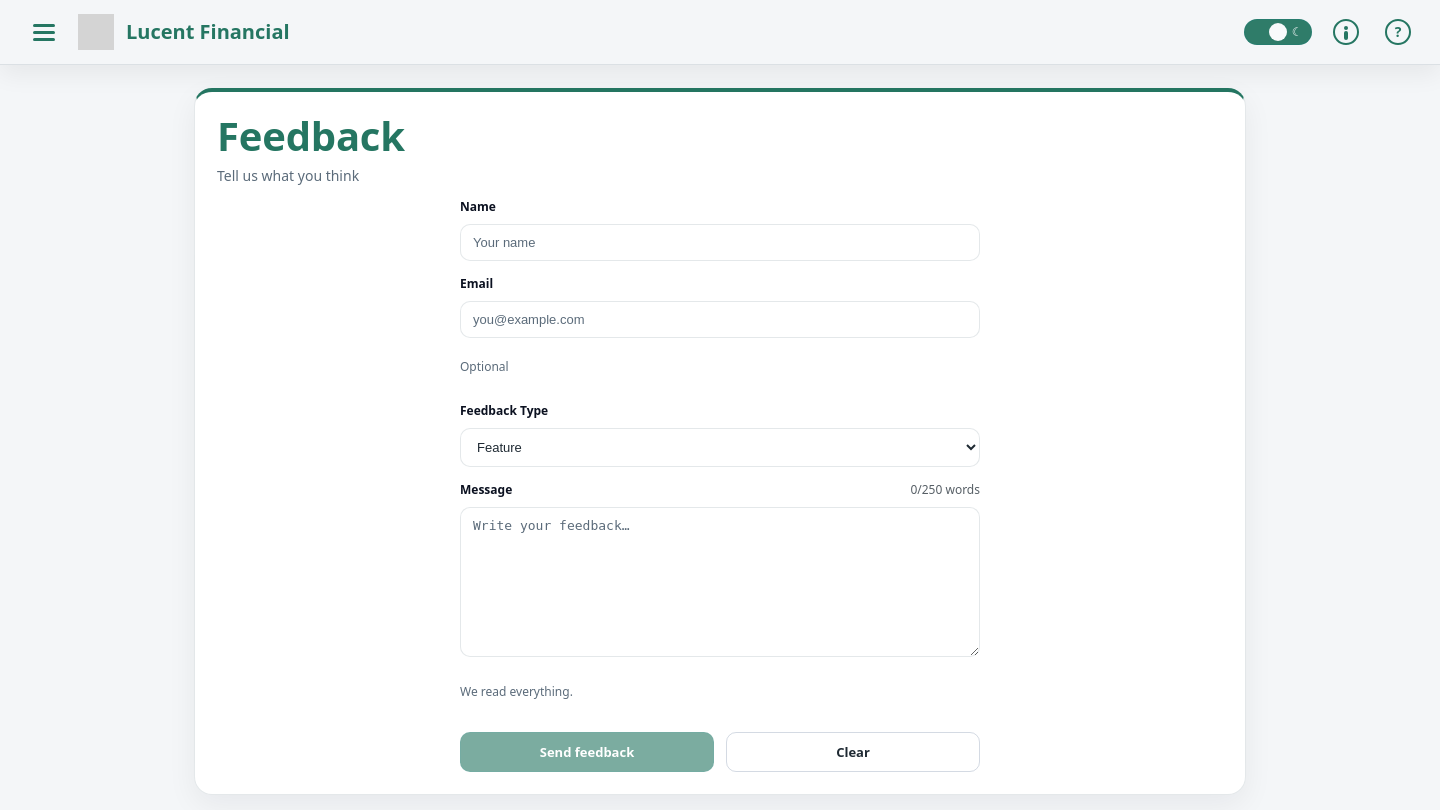
Test: FeedbackPage › clear button resets message + status
Type "This is enough words" into the text box labelled "Message" at (720, 582), box [460,507,980,657]
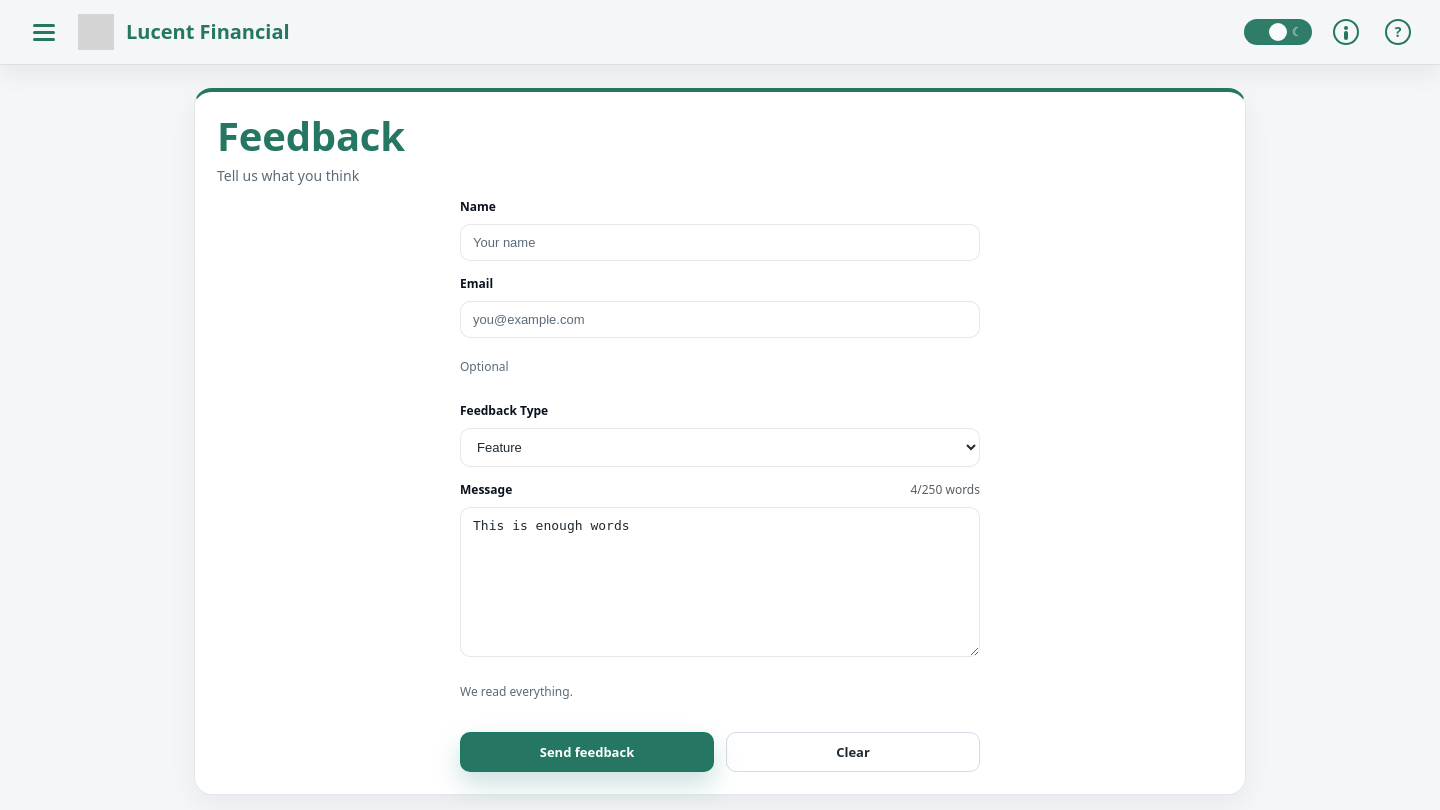
Check: the button "Send feedback" is enabled
Click the button "Send feedback" at (587, 752), box [460,732,714,772]
(page scrolled)
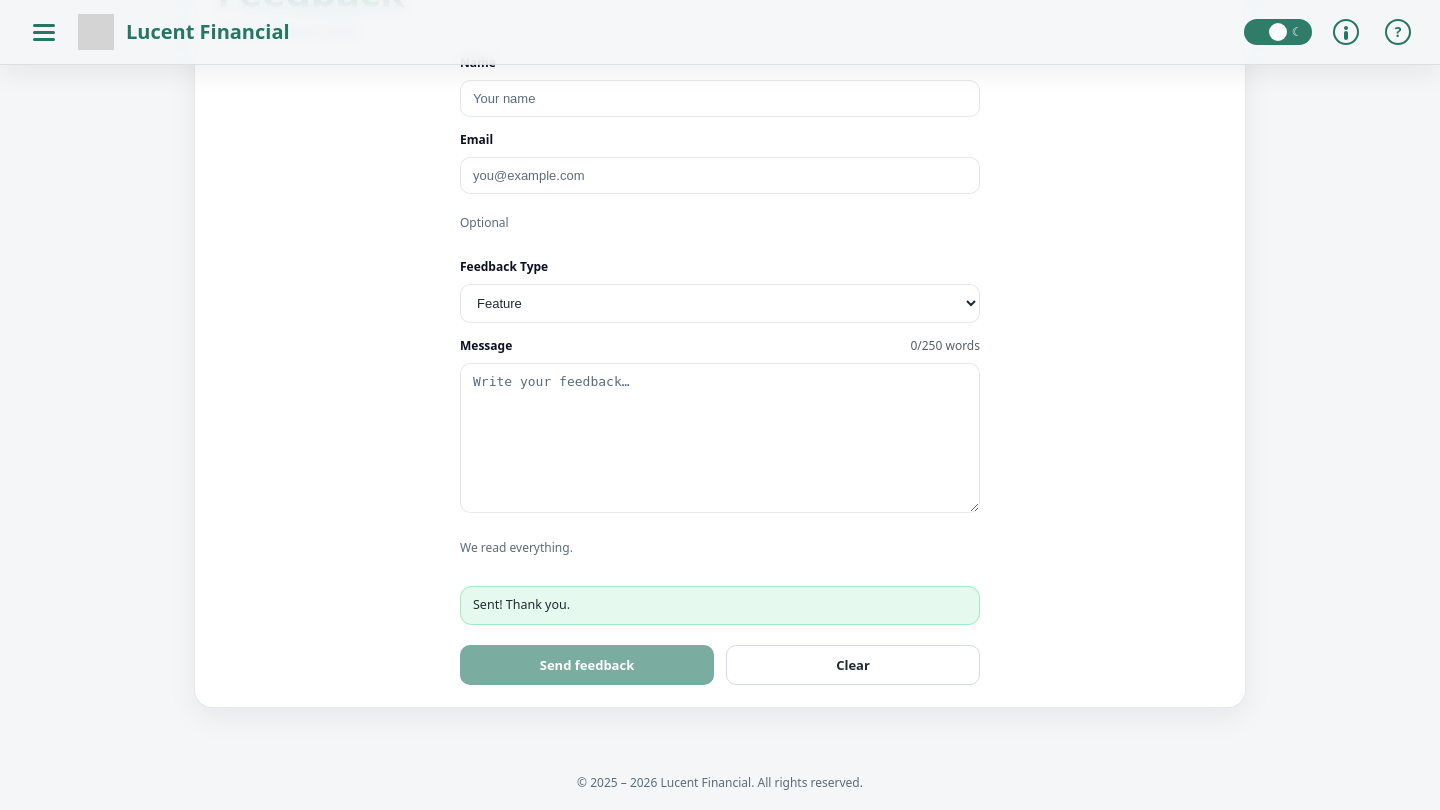
Check: the text "Sent! Thank you." is shown, box [460,586,980,625]
Click the button "Clear" at (853, 665), box [726,645,980,685]
(page scrolled)
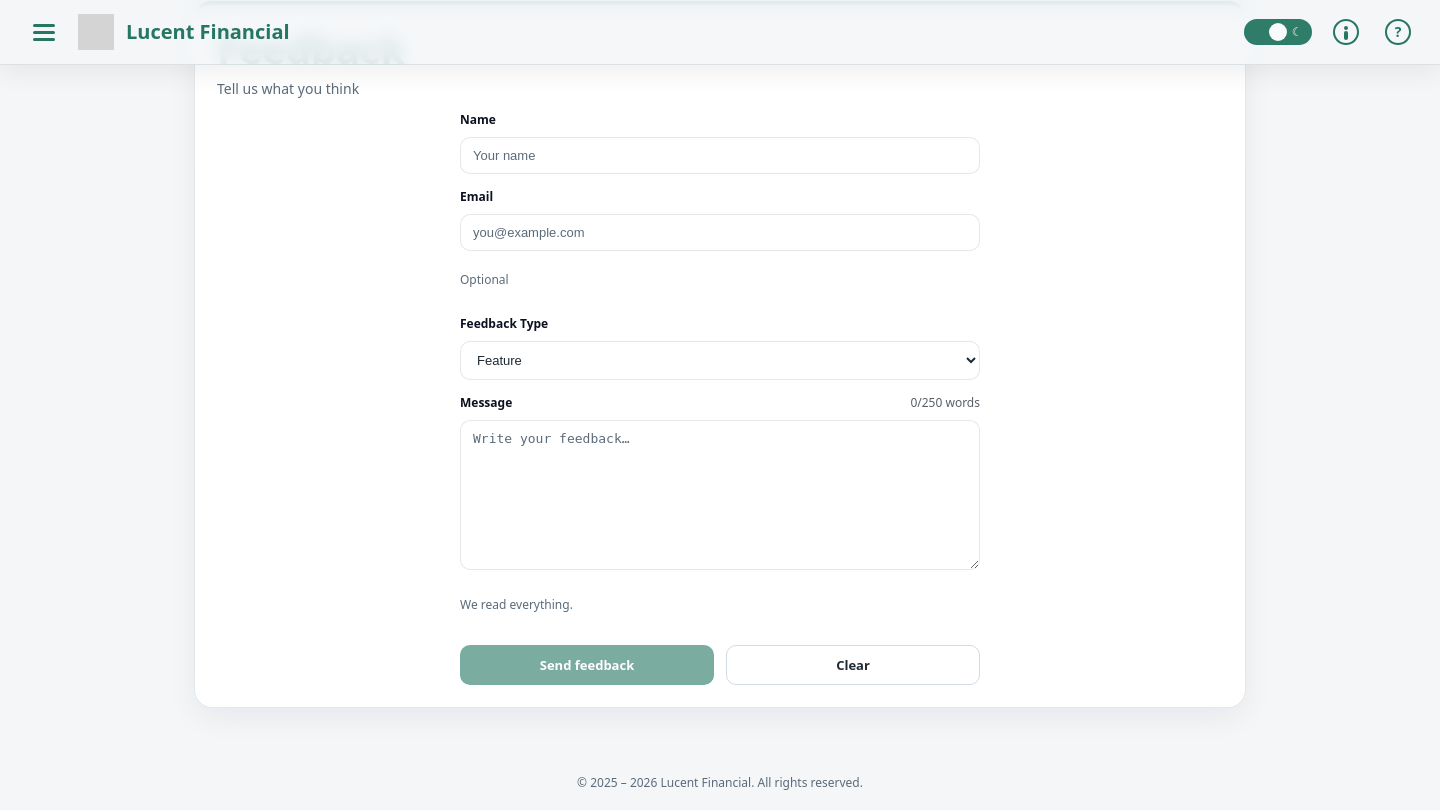
Check: the text box labelled "Message" is empty, box [460,420,980,570]
Check: the text "Sent! Thank you." is gone
